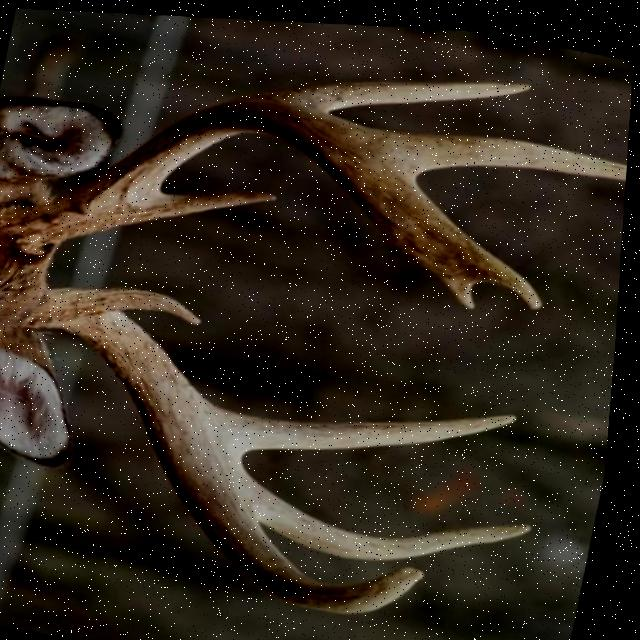E1: (439, 266, 481, 301)
L-F: (1, 91, 548, 301)
L-G1: (153, 186, 279, 216)
L-G2: (269, 73, 532, 106)
L-G3: (364, 119, 629, 171)
R-F: (38, 285, 436, 608)
R-G1: (92, 284, 207, 320)
R-G2: (219, 401, 524, 448)
R-G3: (256, 469, 541, 554)
